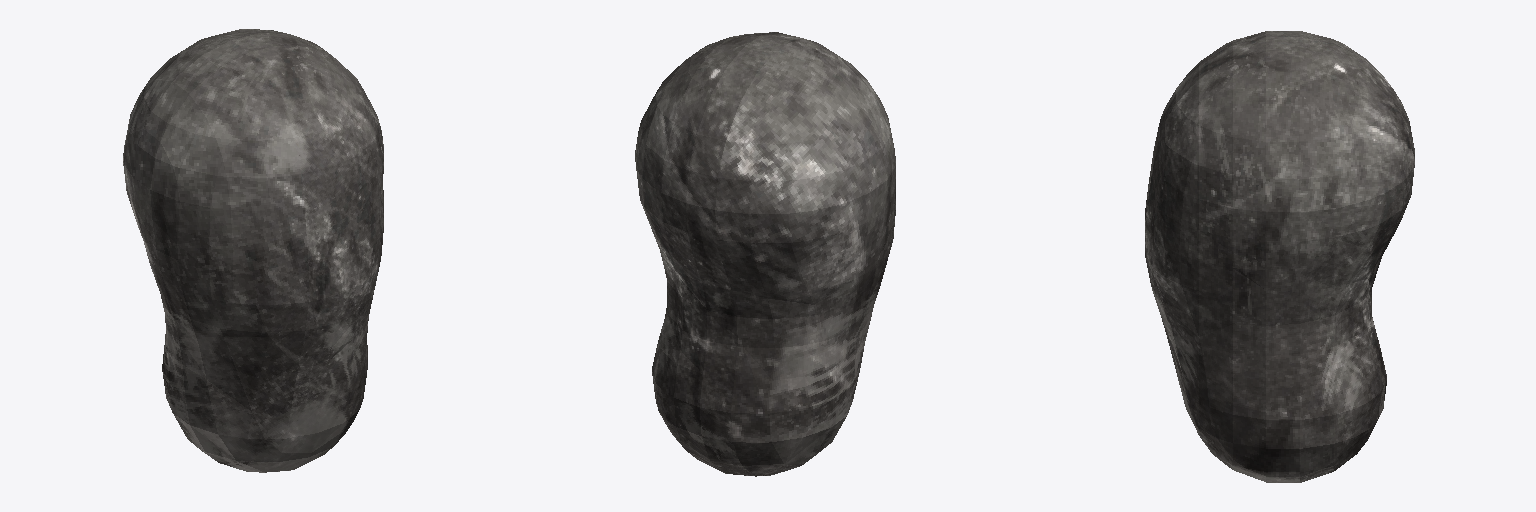
3 views of the same model, side by side, from view 1: azimuth 30°, elevation 25°; view 2: azimuth 150°, elevation 25°; view 3: azimuth 270°, elevation 25° (orthographic).
Parts seen in each view (by area): view 1: Mball.000_Mesh.005_meshId0_name.004; view 2: Mball.000_Mesh.005_meshId0_name.004; view 3: Mball.000_Mesh.005_meshId0_name.004.
Part boxes in pixels (bbox=[...]): Mball.000_Mesh.005_meshId0_name.004: bbox=[123, 29, 383, 472]; Mball.000_Mesh.005_meshId0_name.004: bbox=[635, 32, 895, 476]; Mball.000_Mesh.005_meshId0_name.004: bbox=[1145, 31, 1414, 482].
Bounding box in the file's own units: 0.3474 × 0.6237 × 0.3595.
1 materials, 1 textured.